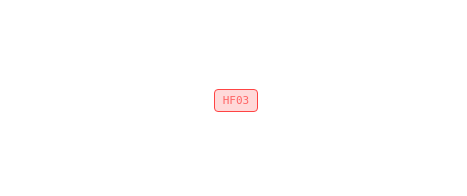
it: Inspector Component (Story 7.7) › FlagsList (AC #2, #6) › should show solution for selected flag
Click the button with test id "flag-HF03" at point(236, 100), box [214,88,258,112]
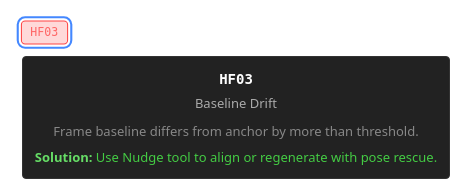
Now the text "Solution:" is shown, box [35,148,92,166]
Now the text "Use Nudge tool" is shown, box [96,148,437,166]
